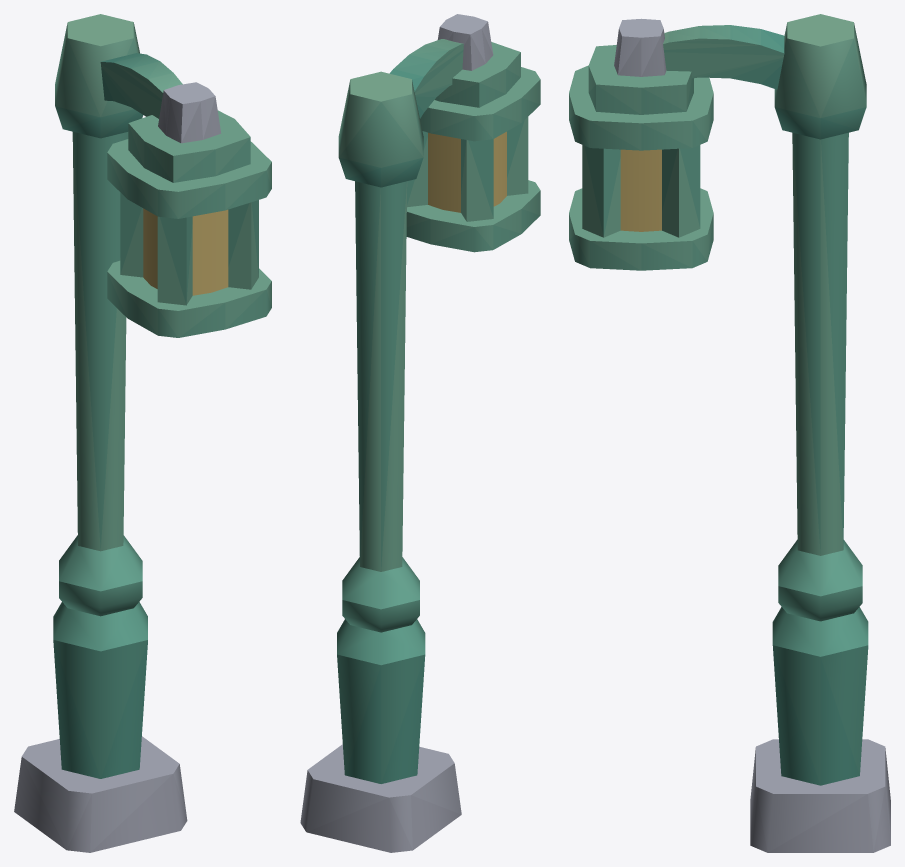
File: kgy_lightpost-single.fbx
3 views of the same model, side by side, from view 1: azimuth 30°, elevation 25°; view 2: azimuth 150°, elevation 25°; view 3: azimuth 270°, elevation 25° (orthographic). The views are drawn at different scales.
Parts seen in each view (by area): view 1: lightpost-single; view 2: lightpost-single; view 3: lightpost-single.
Boxes of the visible parts, <box> form: lightpost-single: <box>14,14,271,852</box>; lightpost-single: <box>300,14,540,852</box>; lightpost-single: <box>569,14,890,852</box>.
Bounding box in the file's own units: 20.88 × 127 × 46.49.
